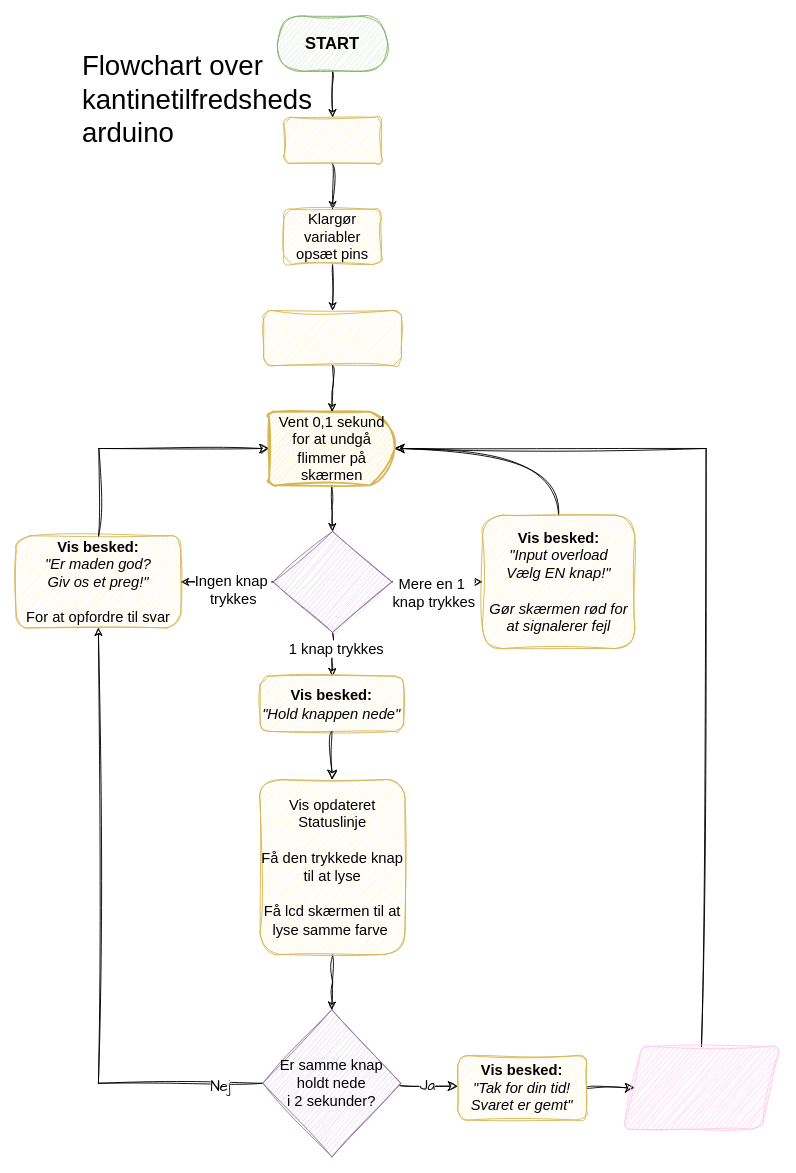
The diagram is 796 pixels wide and 1173 high, and some of its shapes have lost their labels. The centre of each missing label's shape, as x and y in pixels:
Hvor mange knapper trykkes?: point 332,581
Initialiser LCD-skærm: point 332,139
Send besked til serveren om at lagre den nye data: point 701,1087
Vis besked: "Kantinetilfredshed " i 1,5 sekunder: point 332,338
